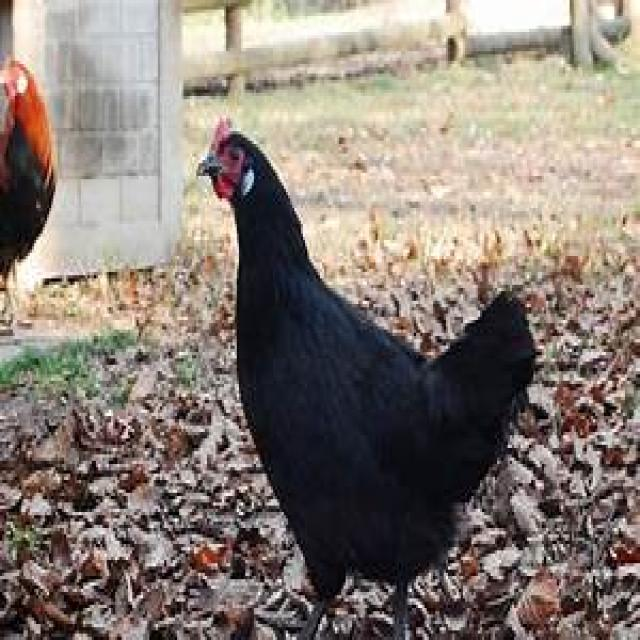chicken: (200, 123, 538, 640)
